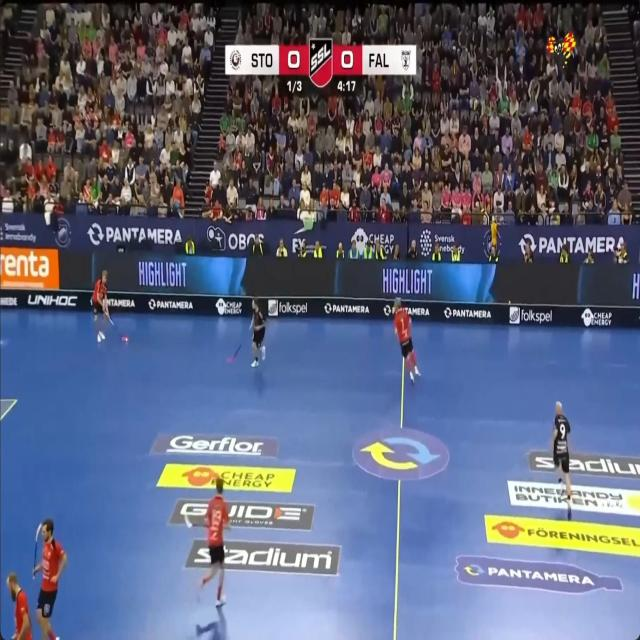Balls: (121, 336, 128, 341)
player: (33, 518, 66, 639), (201, 478, 230, 605), (393, 298, 419, 382), (553, 401, 571, 519), (6, 573, 32, 639), (92, 270, 108, 341), (250, 298, 265, 367), (559, 475, 562, 482)
